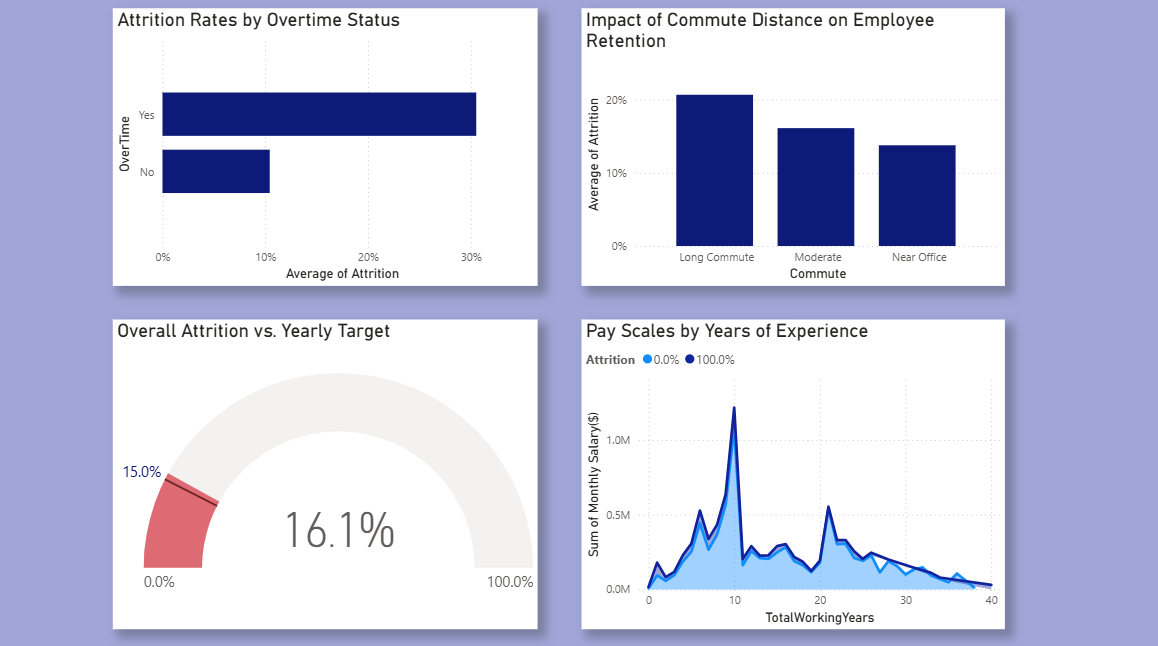

The page's visual inventory and layout, read from the dashboard file:
{"tool":"powerbi","page":{"name":"Page 3","canvas":[1280,720],"ordinal":2},"visuals":[{"type":"clusteredBarChart","title":" Attrition Rates by Overtime Status","fields":{"Category":["Cleaned Data.OverTime"],"Y":["Avg(Cleaned Data.Attrition)"]},"box":[125,18.3,466.7,305],"z":0},{"type":"columnChart","title":"Impact of Commute Distance on Employee Retention","fields":{"Category":["Cleaned Data.Commute"],"Y":["Avg(Cleaned Data.Attrition)"]},"box":[640,18.3,465,305],"z":1000},{"type":"gauge","title":"Overall Attrition vs. Yearly Target","fields":{"Y":["Avg(Cleaned Data.Attrition)"]},"box":[125,360,466.7,340],"z":2000},{"type":"stackedAreaChart","title":"Pay Scales by Years of Experience","fields":{"Category":["Cleaned Data.TotalWorkingYears"],"Y":["Sum(Cleaned Data.Monthly Salary($))"],"Series":["Cleaned Data.Attrition"]},"box":[640,360,465,340],"z":3000}]}

Visuals, with their boxes in screenshot pixels (x1, y1, x2, y2), scaled from the page's 1280x720 canvas onto the 1158x646 screenshot:
" Attrition Rates by Overtime Status" clusteredBarChart: 113,16,535,290
"Impact of Commute Distance on Employee Retention" columnChart: 579,16,1000,290
"Overall Attrition vs. Yearly Target" gauge: 113,323,535,628
"Pay Scales by Years of Experience" stackedAreaChart: 579,323,1000,628
